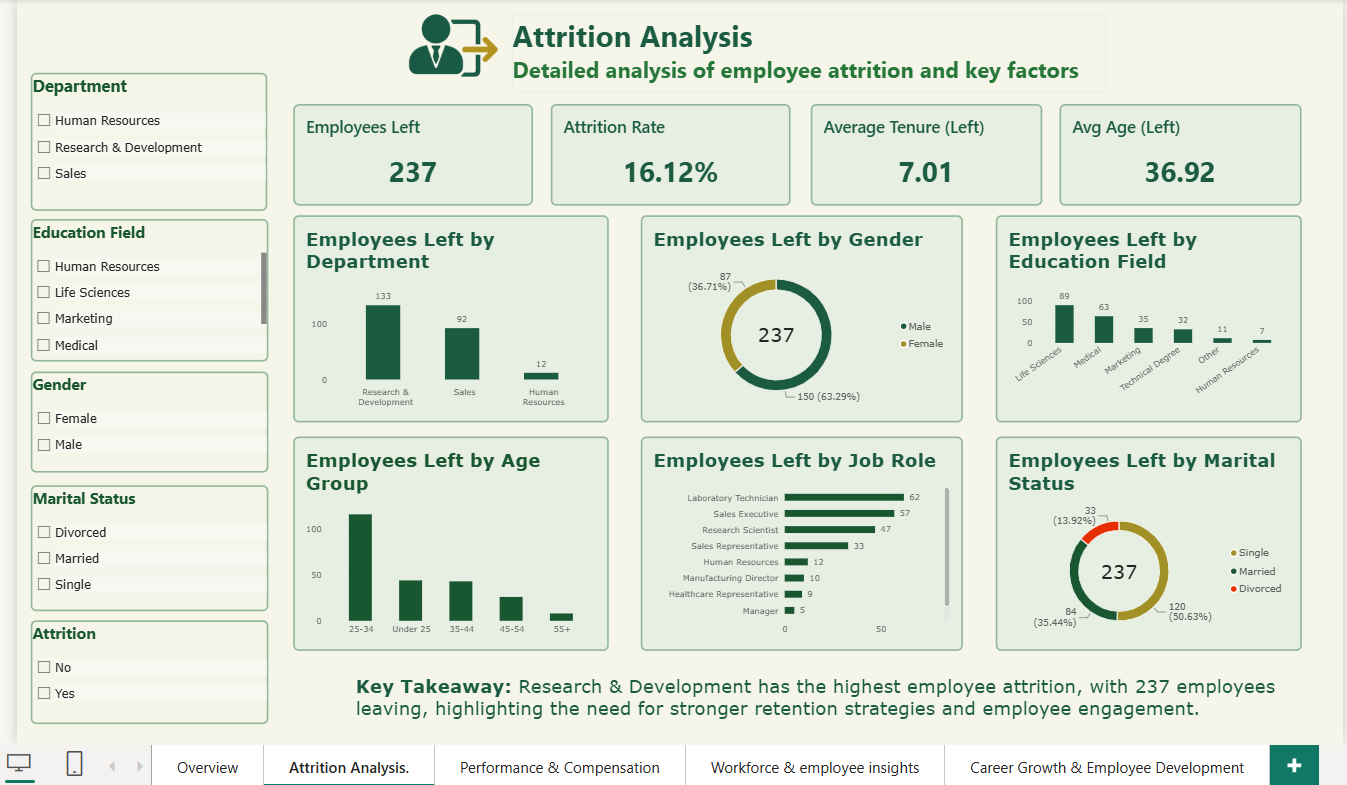

Layout of this report page (visuals, bound fields, positions):
{"tool":"powerbi","page":{"name":"Attrition Analysis","canvas":[1920,1080],"ordinal":1},"visuals":[{"type":"textbox","box":[717.5,22.5,860,112.5],"z":0},{"type":"card","title":"Employees Left","fields":{"Values":["HR_Analytics_Final.Employees Left"]},"box":[400,152.5,347.5,147.5],"z":1000},{"type":"card","title":"Attrition Rate","fields":{"Values":["HR_Analytics_Final.Attrition Rate"]},"box":[772.5,152.5,347.5,147.5],"z":2000},{"type":"card","title":"Average Tenure (Left)","fields":{"Values":["HR_Analytics_Final.Average Tenure"]},"box":[1150,152.5,335,147.5],"z":3000},{"type":"card","title":"Avg Age (Left)","fields":{"Values":["HR_Analytics_Final.Average Age"]},"box":[1510,152.5,350,147.5],"z":4000},{"type":"clusteredColumnChart","title":"Employees Left by Department","fields":{"Category":["HR_Analytics_Final.Department"],"Y":["HR_Analytics_Final.Employees Left"]},"box":[400,313.3,456.7,300],"z":5000},{"type":"donutChart","title":"Employees Left by Gender","fields":{"Category":["HR_Analytics_Final.Gender"],"Y":["HR_Analytics_Final.Employees Left"]},"box":[903.3,313.3,466.7,300],"z":6000},{"type":"clusteredColumnChart","title":"Employees Left by Education Field","fields":{"Category":["HR_Analytics_Final.EducationField"],"Y":["HR_Analytics_Final.Employees Left"]},"box":[1416.7,313.3,443.3,300],"z":7000},{"type":"clusteredColumnChart","title":"Employees Left by Age Group","fields":{"Category":["HR_Analytics_Final.AgeGroup"],"Y":["HR_Analytics_Final.Employees Left"]},"box":[400,633.3,456.7,310],"z":8000},{"type":"clusteredBarChart","title":"Employees Left by Job Role","fields":{"Category":["HR_Analytics_Final.JobRole"],"Y":["HR_Analytics_Final.Employees Left"]},"box":[903.3,633.3,466.7,310],"z":9000},{"type":"donutChart","title":"Employees Left by Marital Status","fields":{"Category":["HR_Analytics_Final.MaritalStatus"],"Y":["HR_Analytics_Final.Employees Left"]},"box":[1416.7,633.3,443.3,310],"z":10000},{"type":"slicer","title":"Education Field","fields":{"Values":["HR_Analytics_Final.EducationField"]},"box":[19.5,318,344,206],"z":11000},{"type":"slicer","title":"Gender","fields":{"Values":["HR_Analytics_Final.Gender"]},"box":[19.5,540,344,146],"z":12000},{"type":"slicer","title":"Department","fields":{"Values":["HR_Analytics_Final.Department"]},"box":[20,107.5,342.5,200],"z":13000},{"type":"slicer","title":"Marital Status","fields":{"Values":["HR_Analytics_Final.MaritalStatus"]},"box":[19.5,704,344,182],"z":14000},{"type":"slicer","title":"Attrition","fields":{"Values":["HR_Analytics_Final.Attrition"]},"box":[19.5,900,344,150],"z":15000},{"type":"image","box":[452.5,0,350,135],"z":16000},{"type":"textbox","box":[490,976.7,1370,103.3],"z":16001}]}

Visuals, with their boxes on the page's 1920x1080 design canvas (x1, y1, x2, y2). These are canvas units, not pixel positions in the 1347x785 screenshot, which may show the page scaled, cropped or inside an application window:
textbox: (718,22,1578,135)
"Employees Left" card: (400,152,748,300)
"Attrition Rate" card: (772,152,1120,300)
"Average Tenure (Left)" card: (1150,152,1485,300)
"Avg Age (Left)" card: (1510,152,1860,300)
"Employees Left by Department" clusteredColumnChart: (400,313,857,613)
"Employees Left by Gender" donutChart: (903,313,1370,613)
"Employees Left by Education Field" clusteredColumnChart: (1417,313,1860,613)
"Employees Left by Age Group" clusteredColumnChart: (400,633,857,943)
"Employees Left by Job Role" clusteredBarChart: (903,633,1370,943)
"Employees Left by Marital Status" donutChart: (1417,633,1860,943)
"Education Field" slicer: (20,318,364,524)
"Gender" slicer: (20,540,364,686)
"Department" slicer: (20,108,362,308)
"Marital Status" slicer: (20,704,364,886)
"Attrition" slicer: (20,900,364,1050)
image: (452,0,802,135)
textbox: (490,977,1860,1080)
